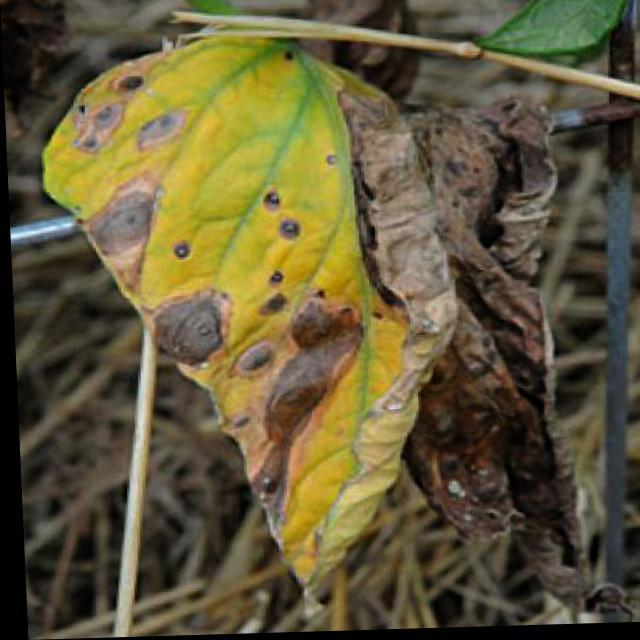Tomato Early blight leaf: (34, 32, 550, 586)
